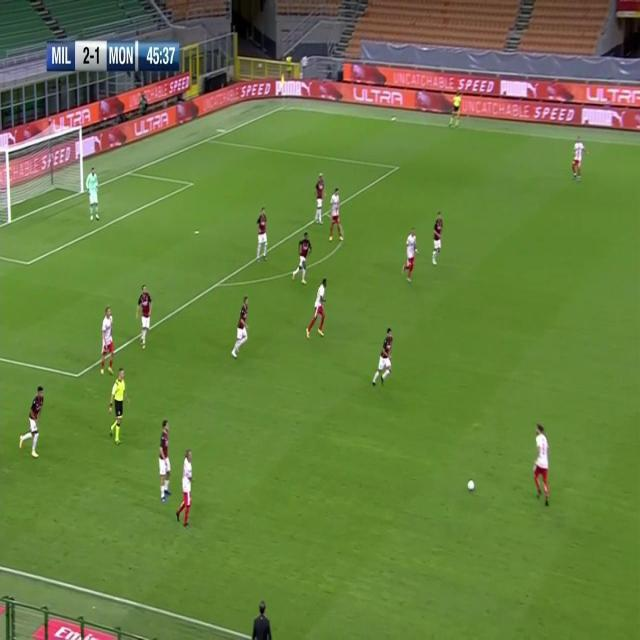ball: (465, 476, 475, 494)
goalkeeper: (86, 166, 100, 222)
player: (17, 384, 44, 457), (531, 421, 551, 505), (156, 419, 174, 502), (176, 449, 194, 526), (371, 326, 393, 389), (305, 278, 327, 339), (230, 298, 250, 357), (99, 304, 115, 374), (292, 230, 312, 284), (136, 284, 152, 350), (327, 186, 343, 243), (401, 227, 417, 284), (570, 134, 587, 182), (255, 206, 269, 262), (431, 210, 443, 264), (312, 171, 324, 223)
referee: (108, 369, 126, 443), (448, 89, 461, 128)
